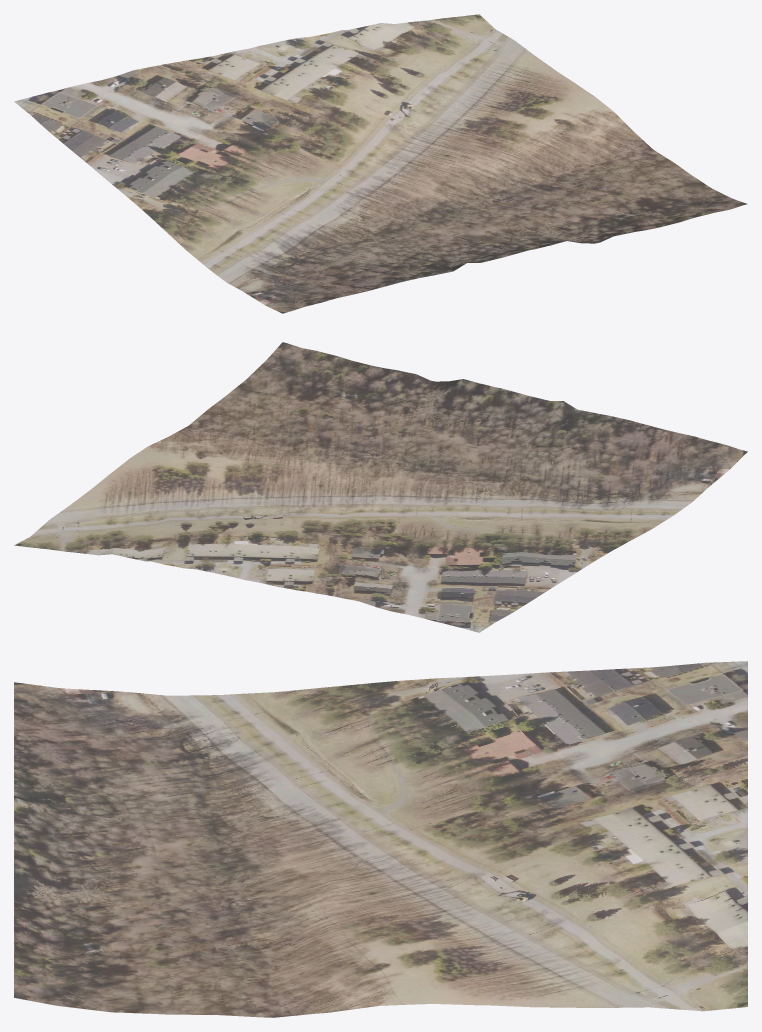
Rendered from CM_Terrain_24492506_6817132.fbx.
The picture shows the model from 3 angles, top to bottom: view 1: azimuth 30°, elevation 25°; view 2: azimuth 150°, elevation 25°; view 3: azimuth 270°, elevation 25°; orthographic projection. The views are drawn at different scales.
Visible parts, largest first — view 1: CM_Terrain_24492506_6817132_LOD0; view 2: CM_Terrain_24492506_6817132_LOD0; view 3: CM_Terrain_24492506_6817132_LOD0.
Boxes of the visible parts, bbox=[...] form: CM_Terrain_24492506_6817132_LOD0: bbox=[14, 14, 747, 313]; CM_Terrain_24492506_6817132_LOD0: bbox=[14, 342, 747, 632]; CM_Terrain_24492506_6817132_LOD0: bbox=[14, 661, 747, 1017].
Size of what is drawn, in the model's own units: 205 by 15.38 by 205.
